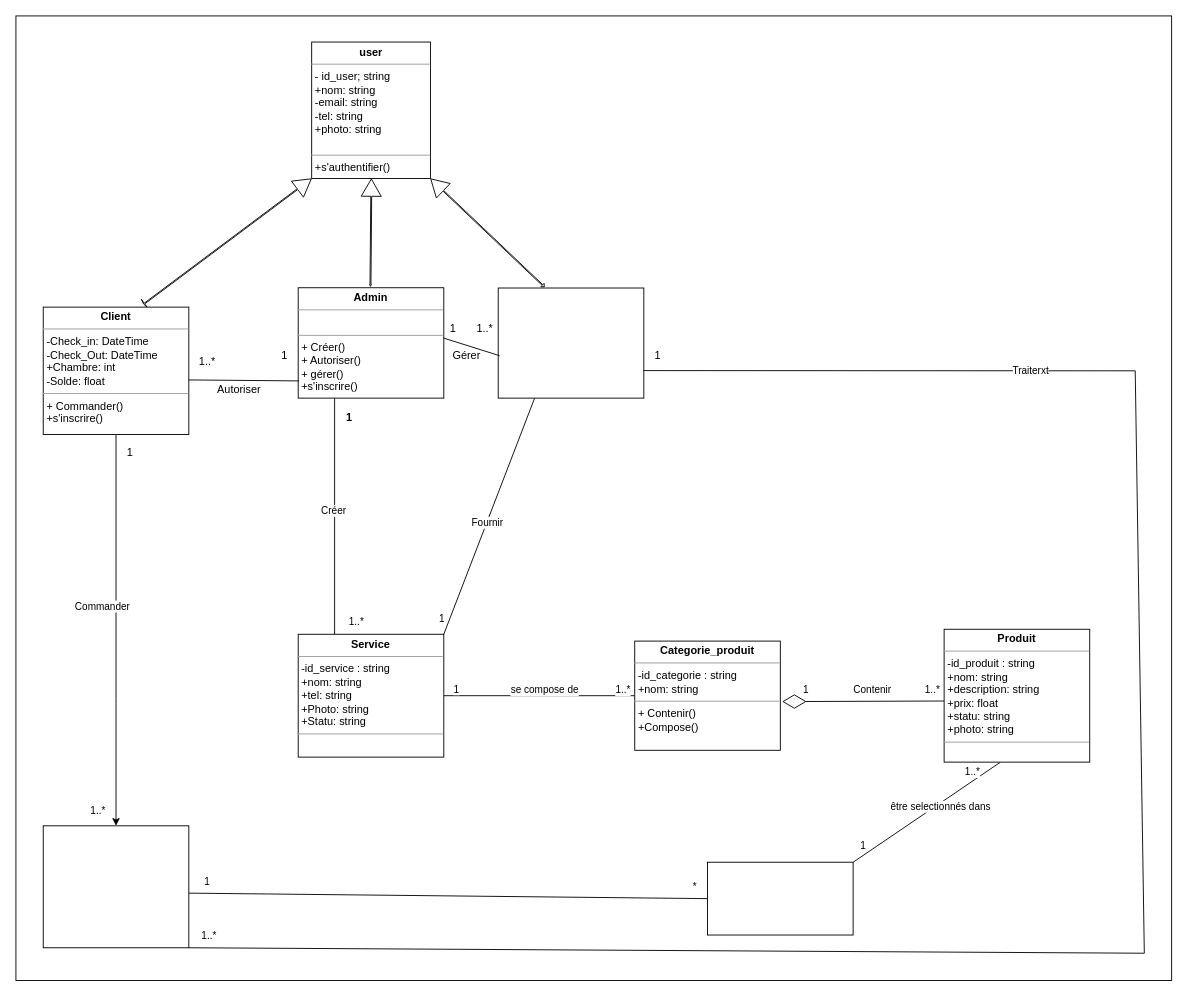
This 1188x996 diagram has some shape labels left out. Here are the shapes that lost their labels. From the top down, the centre of each, then its label:
the point at 570,342: Responsable_Service + Traiter() + Fournir()
the point at 115,886: Commande -id_commande: string +prix: float +date: DateTime +Traitement: Time
the point at 780,898: Commande_Produit +Quantity: Int
